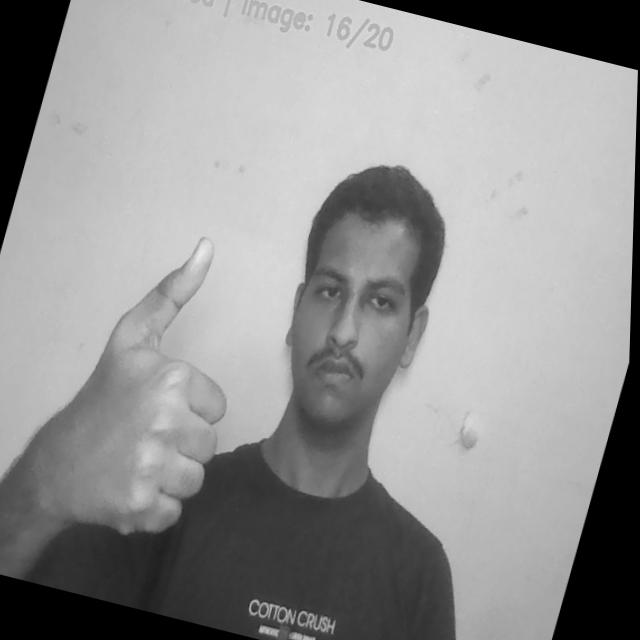Good: (36, 214, 278, 556)
